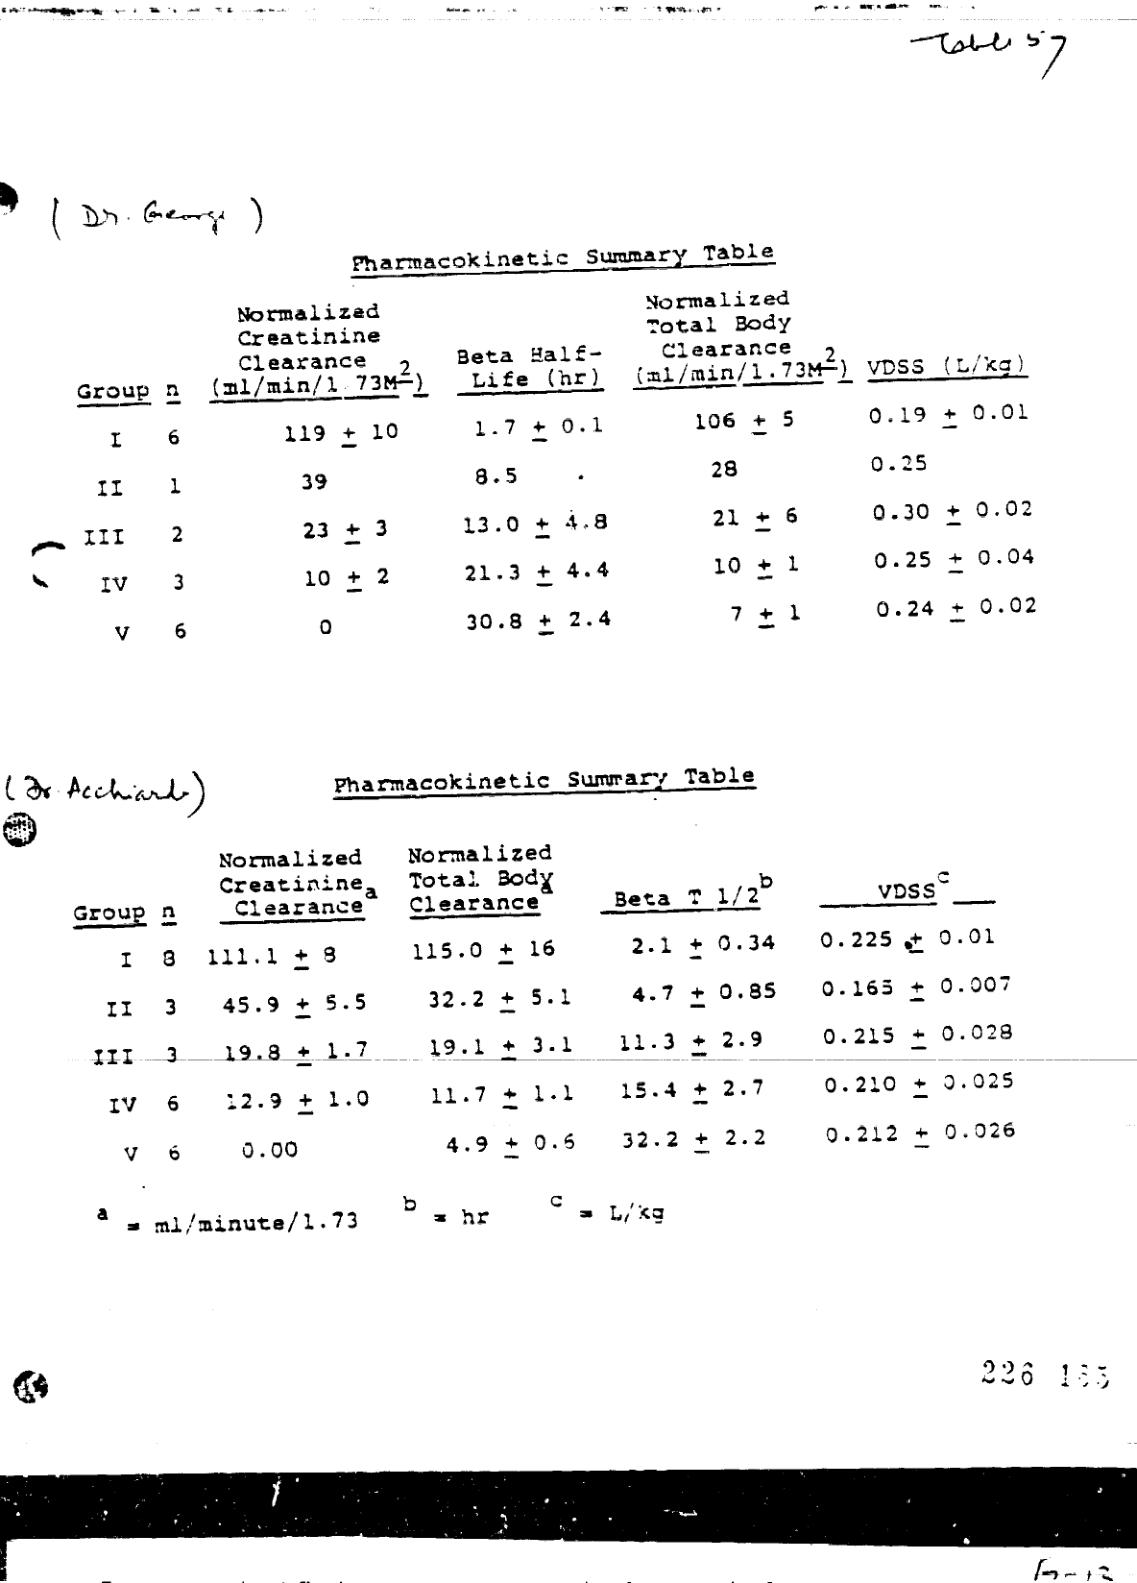nolines: (73, 841, 1026, 1239), (73, 278, 1037, 642)
